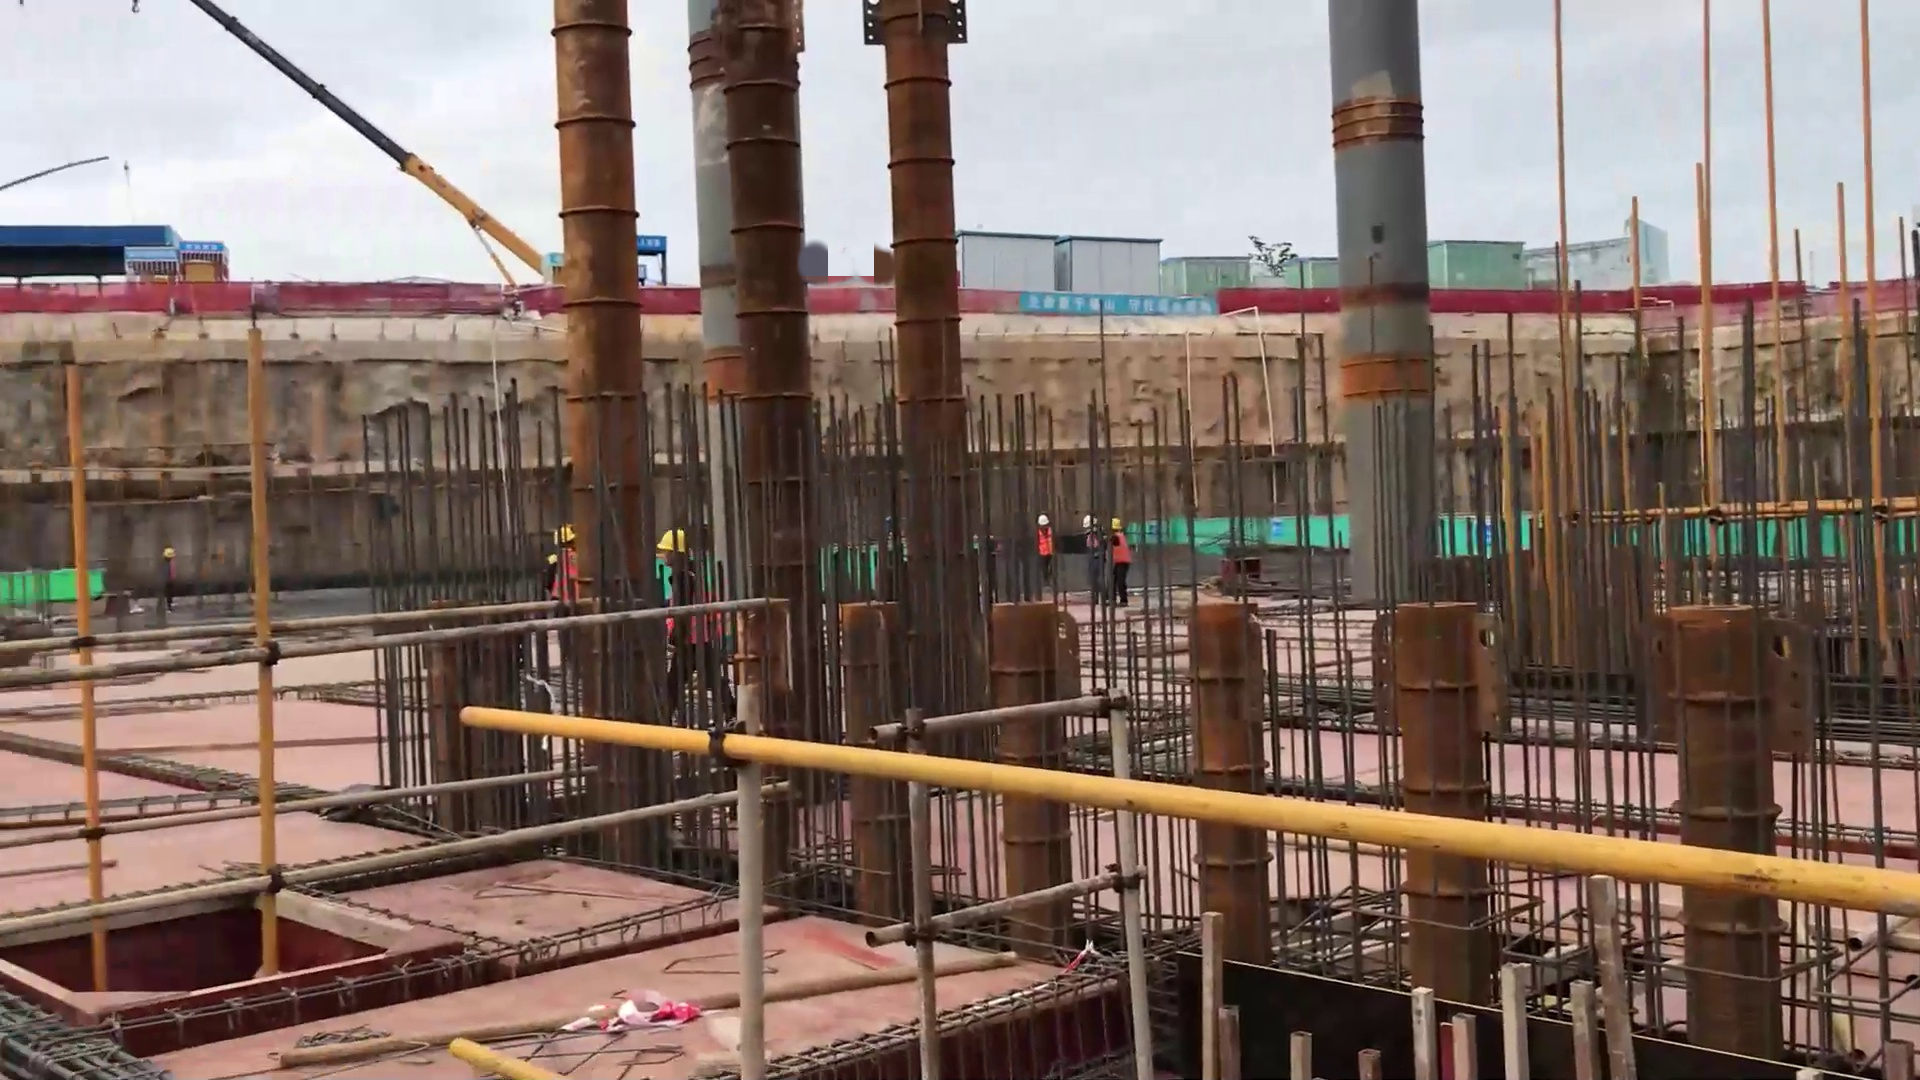ebox: (185, 259, 217, 281)
helmet: (657, 528, 686, 551), (553, 526, 576, 544), (1082, 514, 1097, 530), (1111, 518, 1122, 532), (163, 548, 177, 559), (1037, 515, 1049, 526)
person: (656, 528, 737, 726), (544, 526, 580, 599), (1106, 517, 1132, 610), (1082, 514, 1108, 605), (1037, 514, 1054, 596), (155, 548, 176, 614)
slogan: (1019, 292, 1217, 315)
vest: (668, 574, 718, 643), (552, 549, 580, 599), (1110, 532, 1131, 564), (1038, 527, 1053, 556)
